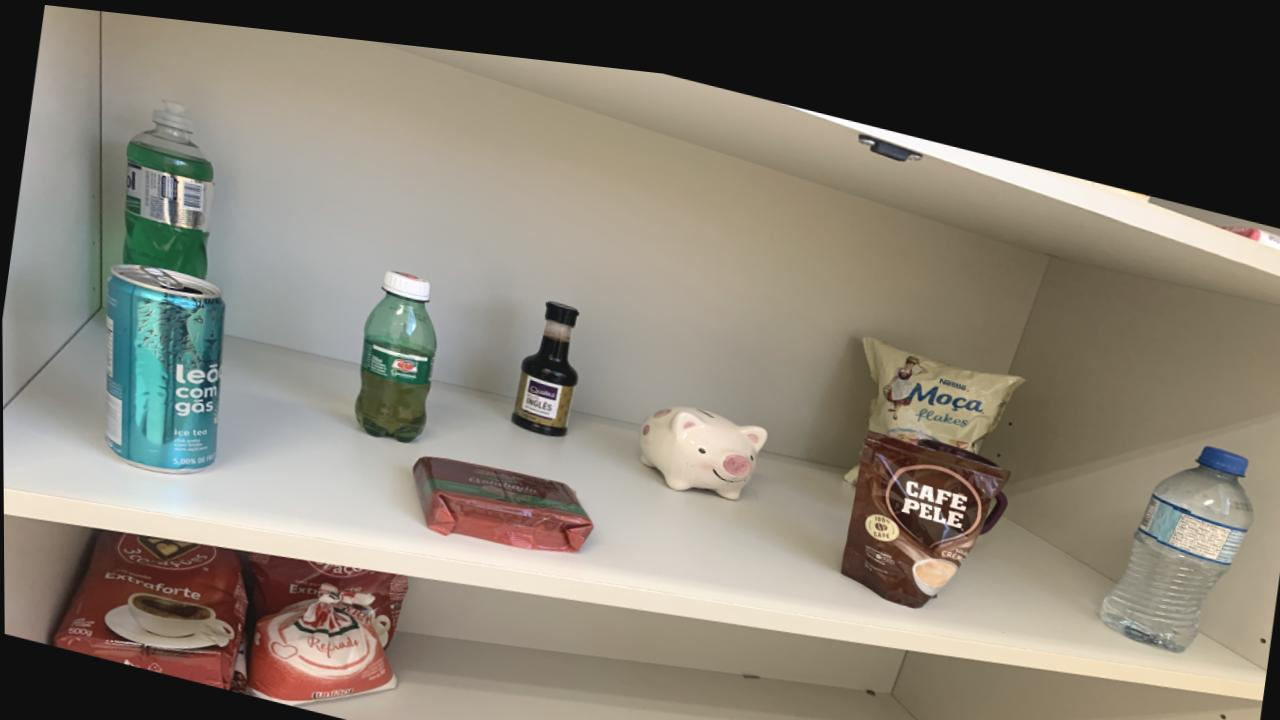Coffee-Pantry_Items: (839, 410, 1008, 586)
Detergent-Cleanup_Items: (122, 96, 214, 274)
English_Sauce-Pantry_Items: (510, 288, 578, 423)
Flakes-Snacks: (862, 316, 1023, 429)
Guarana-Drinks: (353, 262, 436, 432)
Guava-Snacks: (411, 446, 591, 539)
Pig_Safe-Miscellaneous: (638, 390, 767, 482)
Soap-Cleanup_Items: (1221, 196, 1280, 219)
Tea-Drinks: (103, 260, 224, 469)
Water_Bottle-Drinks: (1099, 418, 1253, 624)
